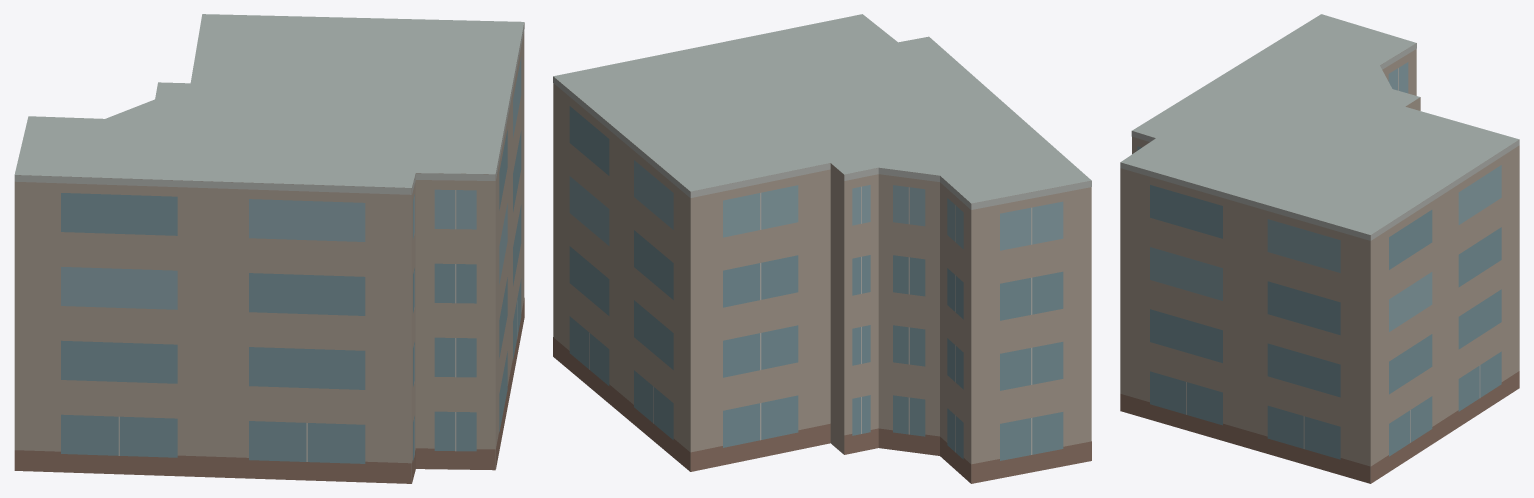
Rendered from survey-upis-32518647.glb.
3 renders of one model, left to right at view 1: azimuth 30°, elevation 25°; view 2: azimuth 150°, elevation 25°; view 3: azimuth 270°, elevation 25°, orthographic. The views are drawn at different scales.
Visible parts, largest first — view 1: survey-upis-32518647.tmp; view 2: survey-upis-32518647.tmp; view 3: survey-upis-32518647.tmp.
Boxes of the visible parts, bbox=[...] form: survey-upis-32518647.tmp: bbox=[14, 14, 524, 483]; survey-upis-32518647.tmp: bbox=[553, 14, 1091, 483]; survey-upis-32518647.tmp: bbox=[1120, 14, 1519, 483].
Bounding box in the file's own units: 20.03 × 10.5 × 15.29.
